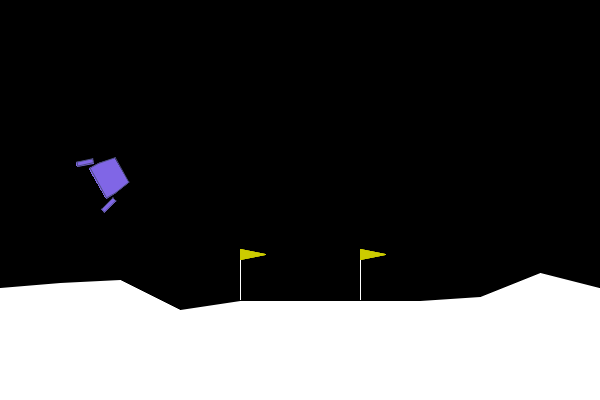lander: (74, 143, 138, 215)
